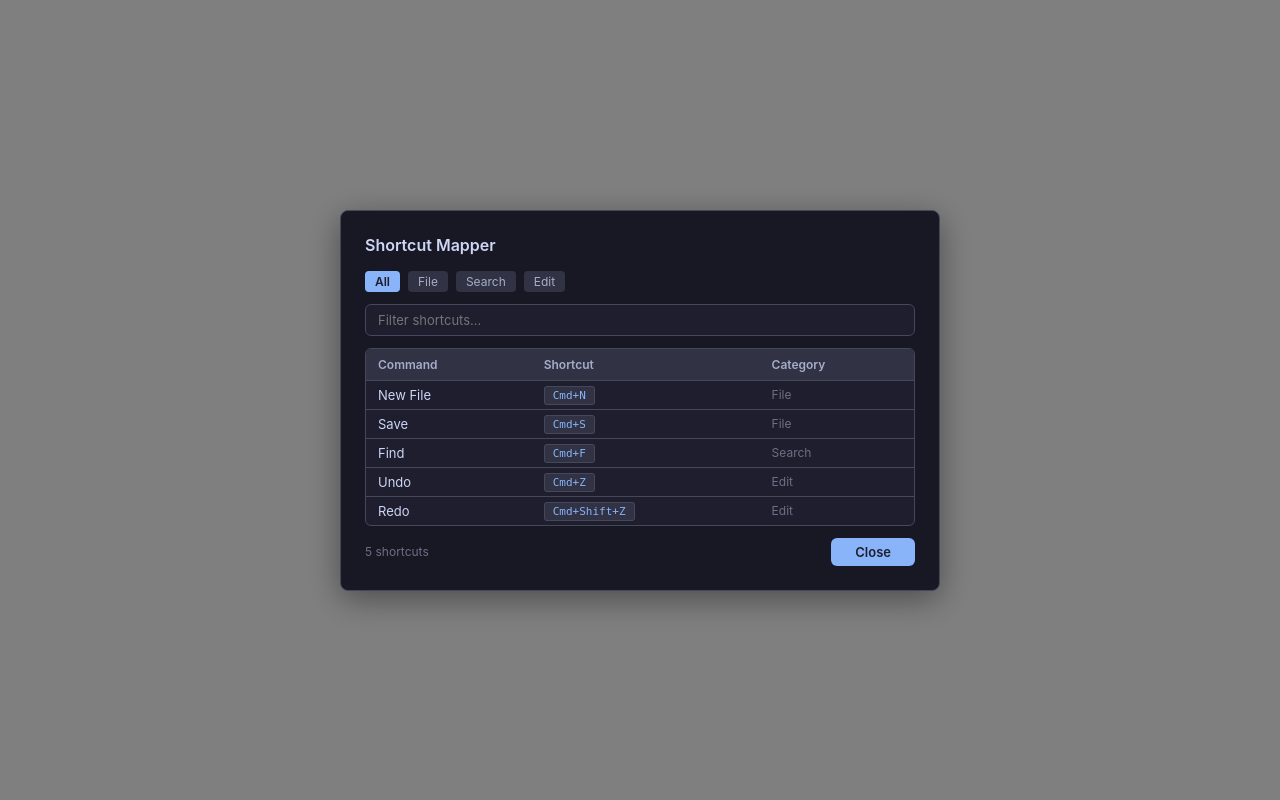
Test: ShortcutMapperDialog › filters by "Edit" category tab
# First Edit is the tab (span), second is in table
Step 1. Click the text "Edit" → (544, 281), box [524,270,565,292]
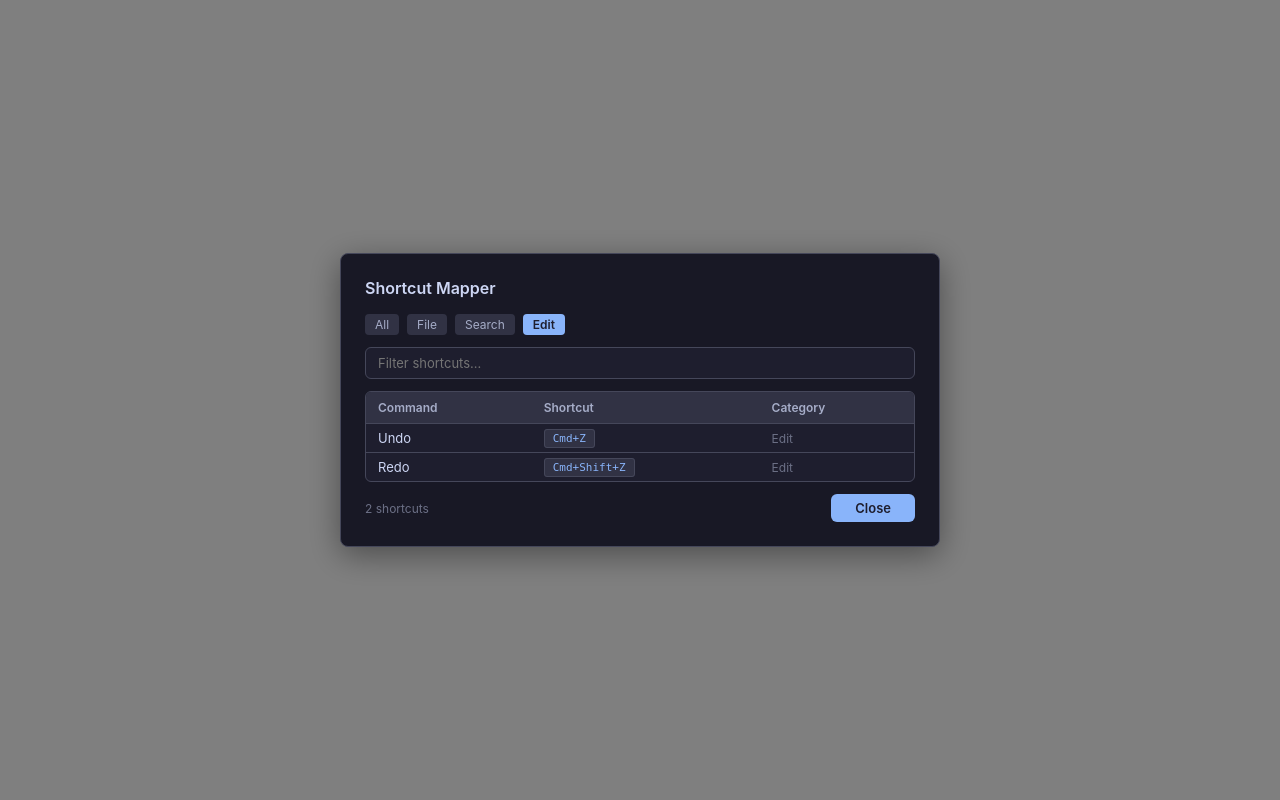
Expected: the text "Undo" is shown, [366,424,532,452]
Result: the text "Save" is gone
Result: the text "Find" is gone
